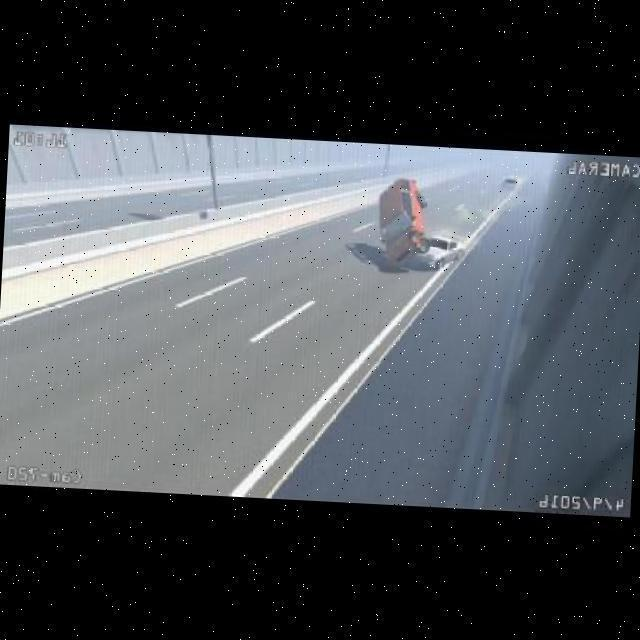accident: (371, 180, 470, 284)
